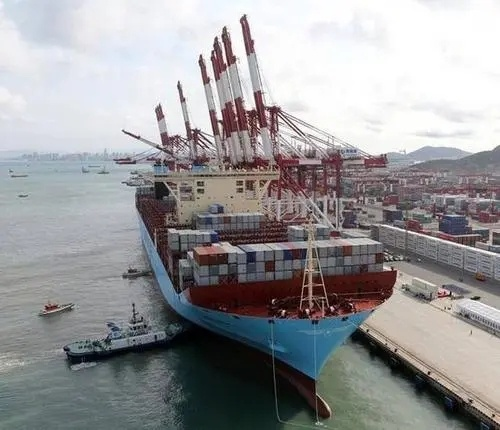Cargoship: (125, 137, 403, 404)
otherboat: (66, 308, 173, 365), (35, 297, 76, 324)
